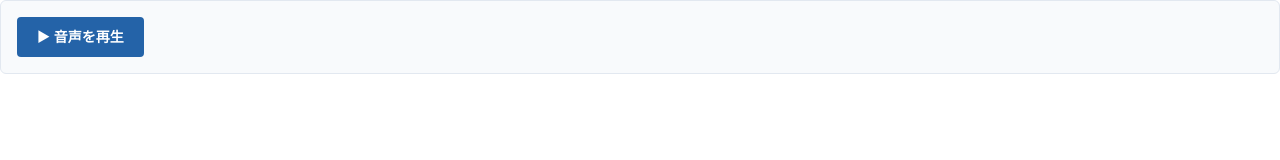
it: ListeningPlayer: 再生に失敗したとき › ブラウザの読み上げ用の台本を取れなくても、「準備中」で固まらず、もう一度押せる
Click the button "▶ 音声を再生" at (80, 37), box left=17, top=17, right=144, bottom=57
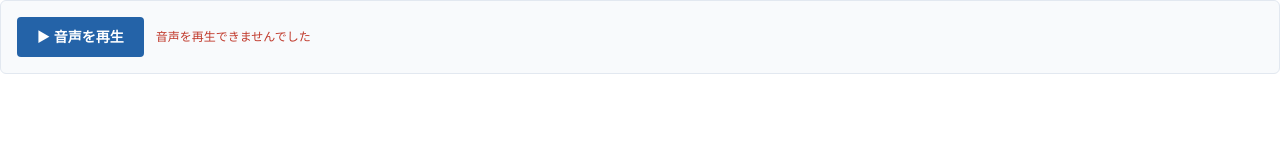
Expected: the text "音声を再生できませんでした" is shown, left=156, top=29, right=311, bottom=45
